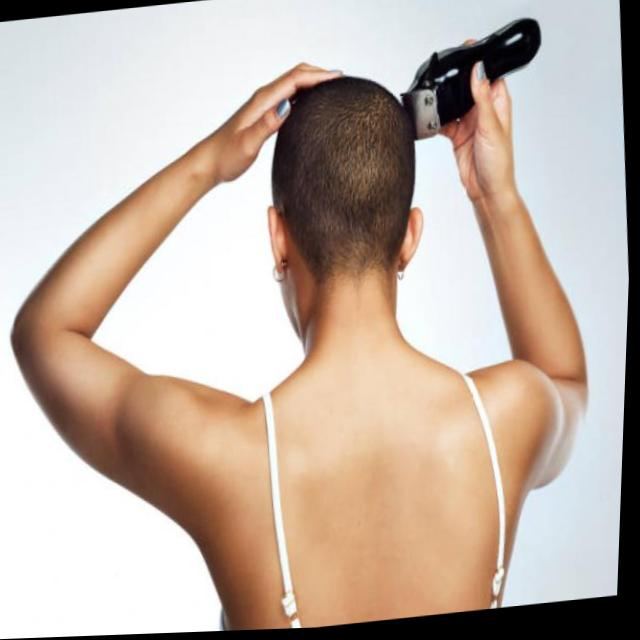no helmet: (271, 68, 439, 344)
